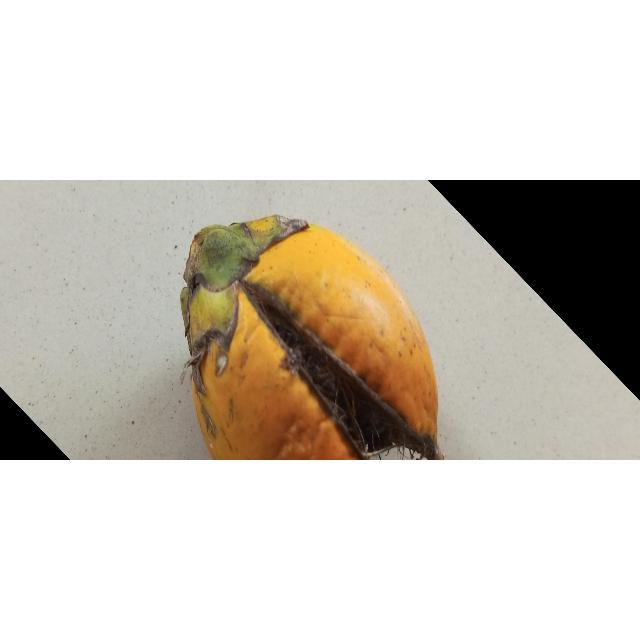damaged: (180, 215, 444, 461)
